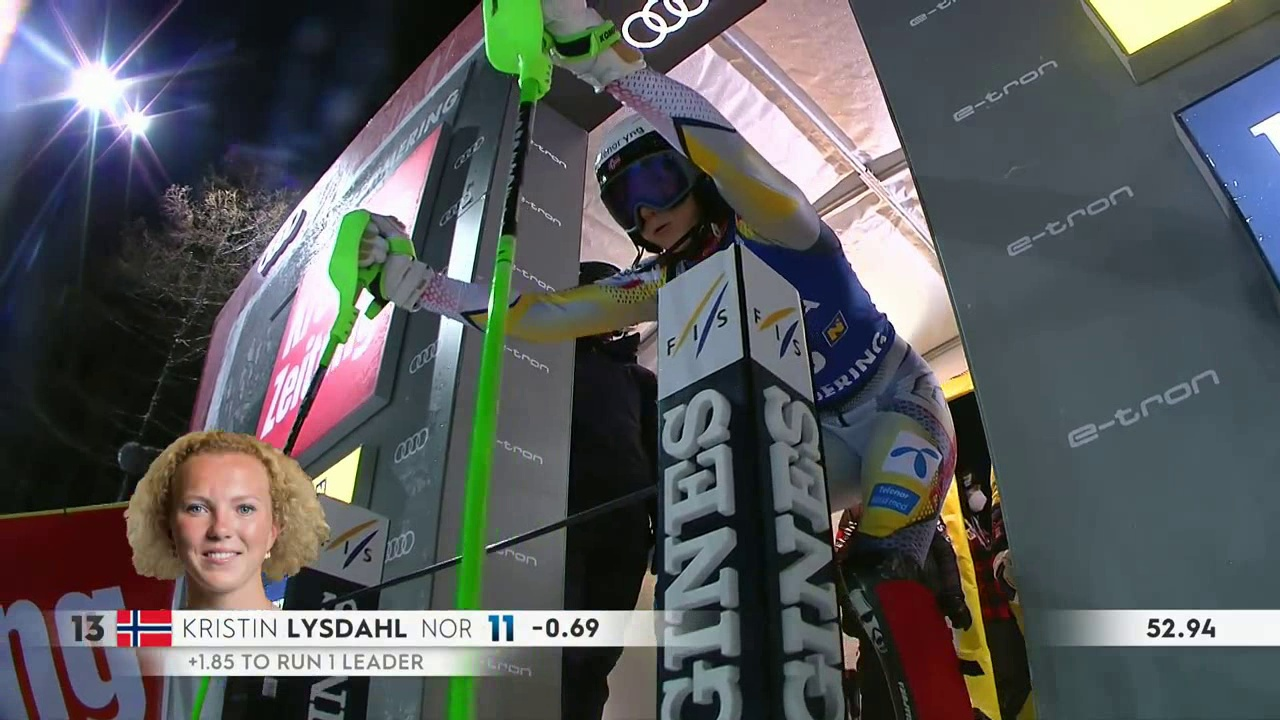audi: (610, 1, 716, 53), (389, 425, 438, 471), (379, 524, 422, 568)
longines: (664, 375, 749, 692)
